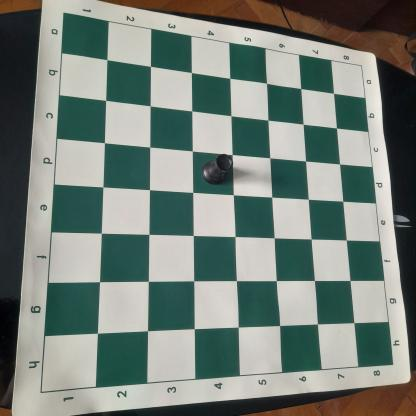black-rook: (201, 150, 234, 188)
